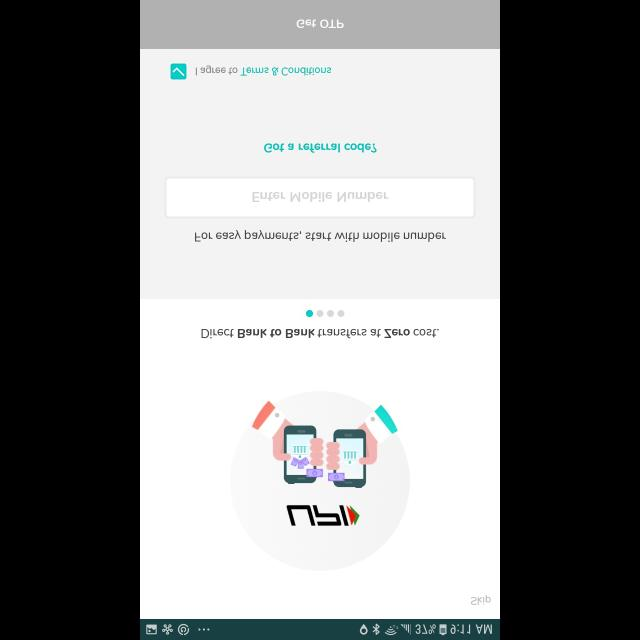checkbox: (170, 64, 186, 80)
image: (230, 390, 410, 570)
input: (164, 176, 476, 218)
pageindicator: (306, 310, 344, 318)
text: (196, 230, 447, 242), (201, 329, 439, 339), (196, 64, 332, 76), (253, 192, 389, 202), (264, 143, 376, 153), (471, 594, 491, 606)
textbutton: (140, 0, 499, 49)
uppertaskbar: (140, 618, 500, 640)
